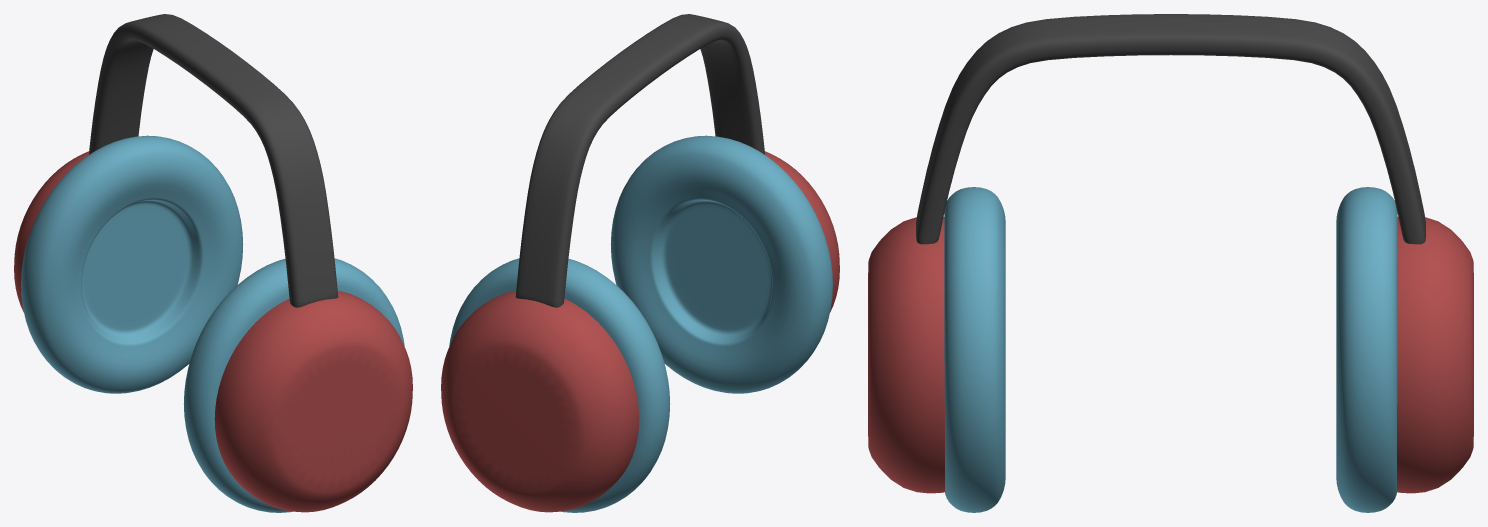
File: headphone.fbx
The picture shows the model from 3 angles, left to right: view 1: azimuth 30°, elevation 25°; view 2: azimuth 150°, elevation 25°; view 3: azimuth 270°, elevation 25°; orthographic projection. The views are drawn at different scales.
Visible parts, largest first — view 1: Headphone Part; view 2: Headphone Part; view 3: Headphone Part.
Boxes of the visible parts, x1=… form: Headphone Part: x1=14, y1=14, x2=412, y2=512; Headphone Part: x1=441, y1=14, x2=839, y2=512; Headphone Part: x1=868, y1=14, x2=1473, y2=512.
Bounding box in the file's own units: 40.04 × 70.47 × 81.21.
